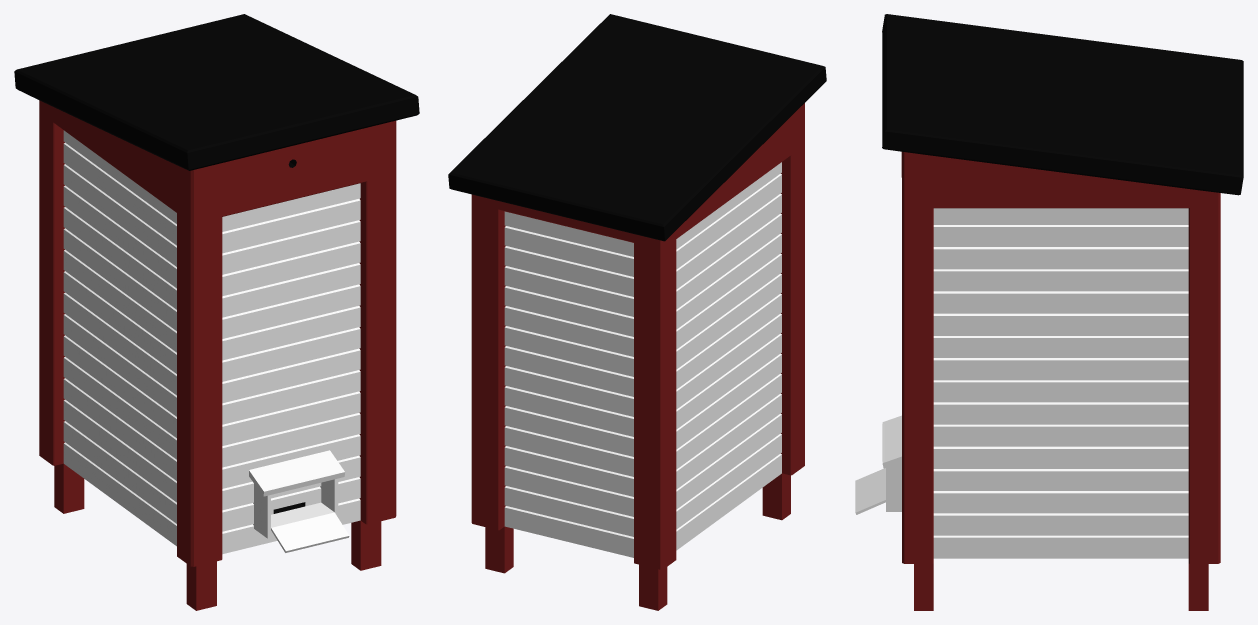
Rendered from Beehive.fbx.
3 renders of one model, left to right at view 1: azimuth 30°, elevation 25°; view 2: azimuth 150°, elevation 25°; view 3: azimuth 270°, elevation 25°, orthographic. The views are drawn at different scales.
Parts seen in each view (by area): view 1: Beehive; view 2: Beehive; view 3: Beehive.
Boxes of the visible parts, x1,y1,x2,y2 form: Beehive: [14, 14, 419, 610]; Beehive: [448, 14, 826, 610]; Beehive: [855, 14, 1243, 610].
Bounding box in the file's own units: 44.96 × 88.39 × 63.11.
